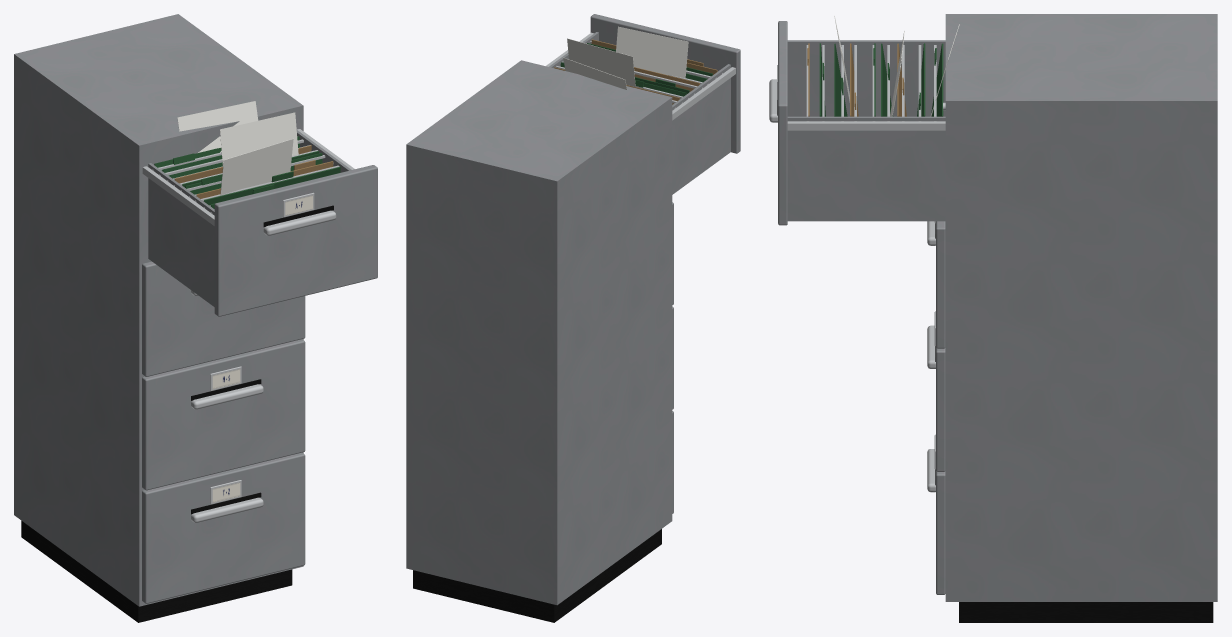
The model's file is FilingCabinetOpen.obj.
3 renders of one model, left to right at view 1: azimuth 30°, elevation 25°; view 2: azimuth 150°, elevation 25°; view 3: azimuth 270°, elevation 25°, orthographic. The views are drawn at different scales.
Parts seen in each view (by area): view 1: Body, Paper, Plinth, Handle, Folder, Rail, Label, Recess, FolderKraft; view 2: Body, Paper, Plinth, Rail, FolderKraft, Folder; view 3: Body, Plinth, Rail, Folder, Handle, FolderKraft.
Boxes of the visible parts, x1,y1,x2,y2 form: Body: [14, 14, 377, 606]; Paper: [177, 101, 298, 195]; Plinth: [21, 521, 292, 622]; Handle: [191, 192, 336, 522]; Folder: [154, 136, 340, 208]; Rail: [142, 129, 354, 225]; Label: [212, 195, 313, 502]; Recess: [191, 205, 333, 514]; FolderKraft: [174, 145, 333, 198]; Body: [406, 14, 740, 605]; Paper: [563, 26, 688, 89]; Plinth: [413, 529, 661, 622]; Rail: [546, 32, 735, 120]; FolderKraft: [554, 39, 717, 104]; Folder: [560, 43, 712, 96]; Body: [778, 14, 1217, 601]; Plinth: [959, 602, 1213, 622]; Rail: [787, 40, 945, 130]; Folder: [819, 43, 943, 116]; Handle: [769, 65, 945, 492]; FolderKraft: [807, 43, 906, 116].
Size of the model in its own units: 0.47 by 1.36 by 1.02.
9 materials, 3 textured.
